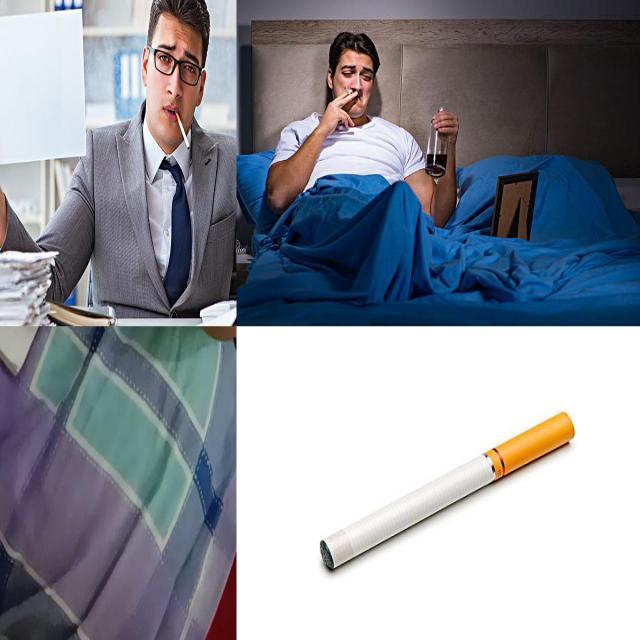cigarette: (319, 410, 578, 570), (175, 110, 191, 150), (342, 78, 352, 100)
